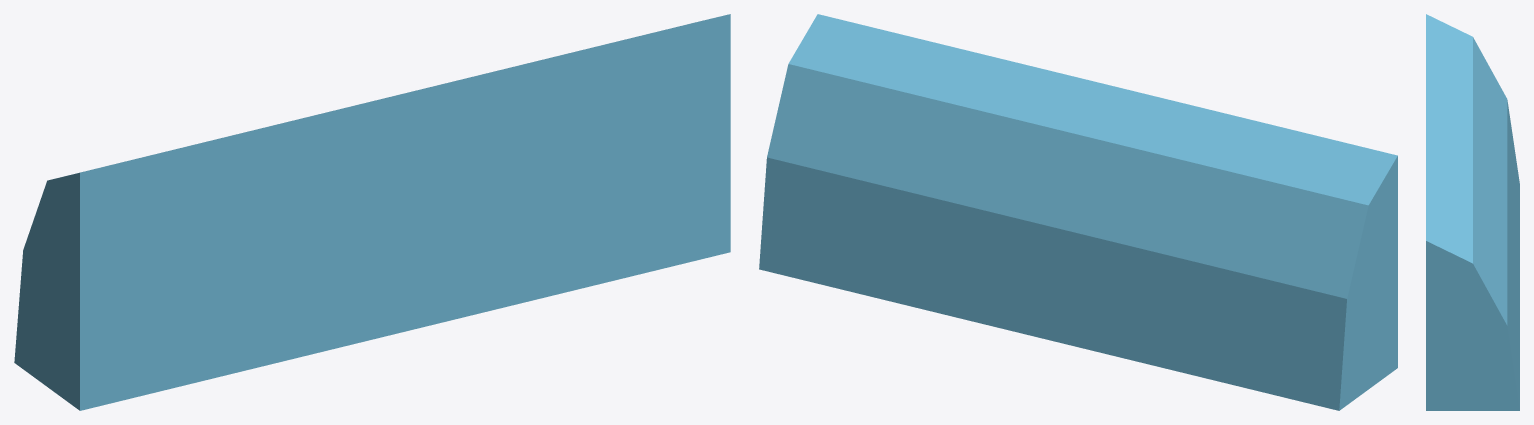
File: Waterfall_Top.glb
3 views of the same model, side by side, from view 1: azimuth 30°, elevation 25°; view 2: azimuth 150°, elevation 25°; view 3: azimuth 270°, elevation 25° (orthographic). The views are drawn at different scales.
Visible parts, largest first — view 1: object1; view 2: object1; view 3: object1.
Part boxes in pixels (x1,y1,x2,y2): object1: (14, 14, 730, 410); object1: (759, 14, 1397, 410); object1: (1426, 14, 1519, 410).
Size of the model in its own units: 1 by 0.35 by 0.175.
